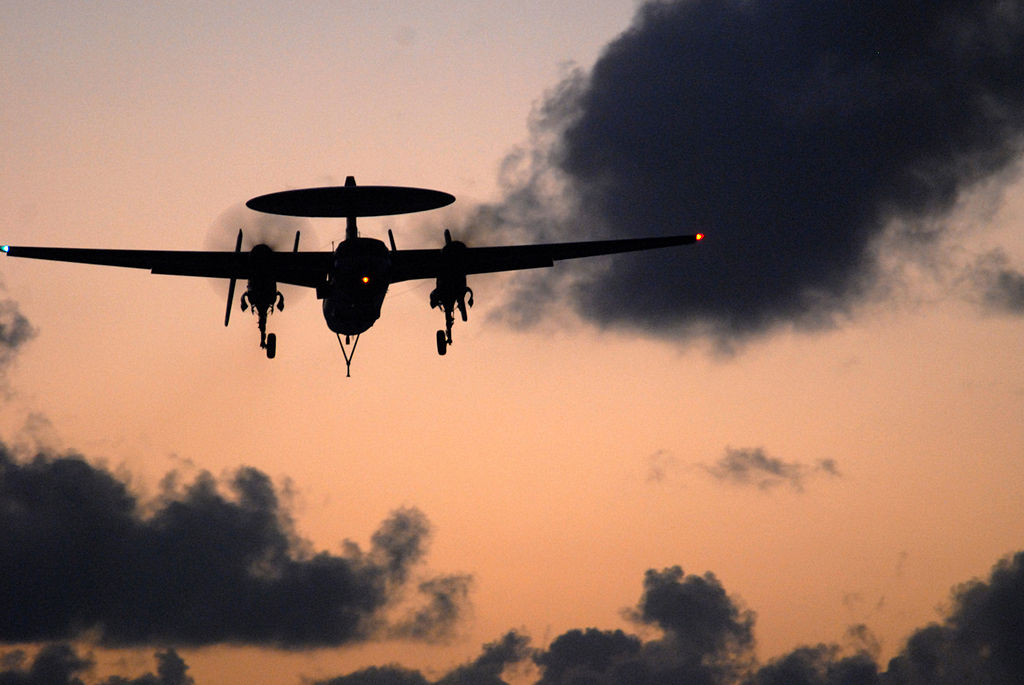E2: (1, 175, 705, 377)
